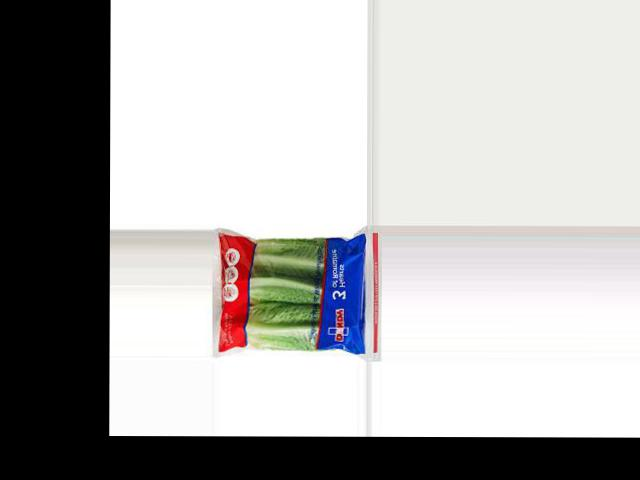lettuce: (211, 231, 369, 355)
